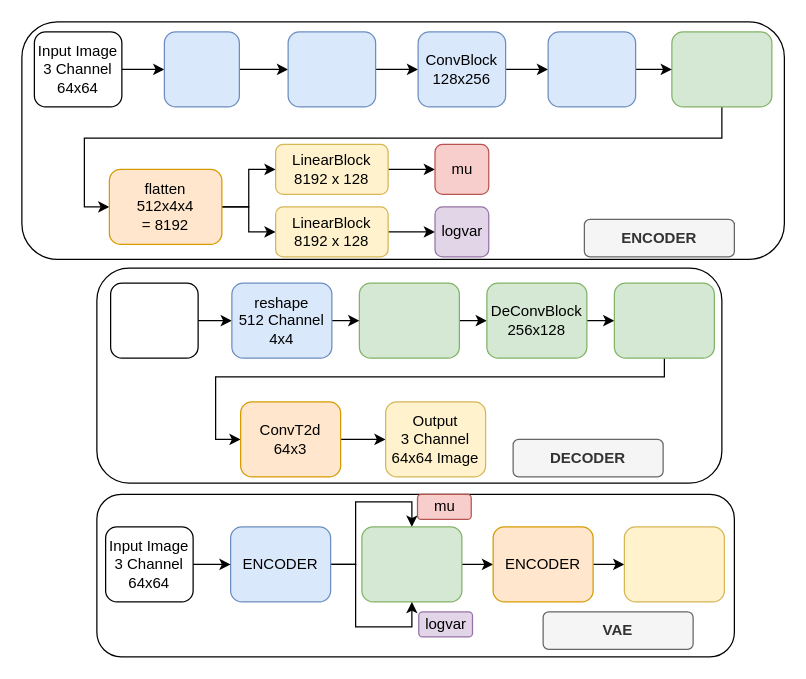
Some shapes in this 806 by 679 pixel diagram are drawn without their labels. The shapes that lost their labels are listed below. From the top down, each one's centre as x and y in pixels, then its label:
At point (201, 69): "ConvBlock 3x64".
At point (331, 69): "ConvBlock 64x128".
At point (591, 69): "ConvBlock 256x512".
At point (721, 69): "Output 512 Channel 4x4 Image".
At point (153, 320): "Linear 128x8192".
At point (408, 320): "DeConvBlock 512x256".
At point (663, 320): "DeConvBlock 128x64".
At point (411, 564): "N~(0,1)".
At point (673, 564): "Output Image 3 Channel 64x64".
